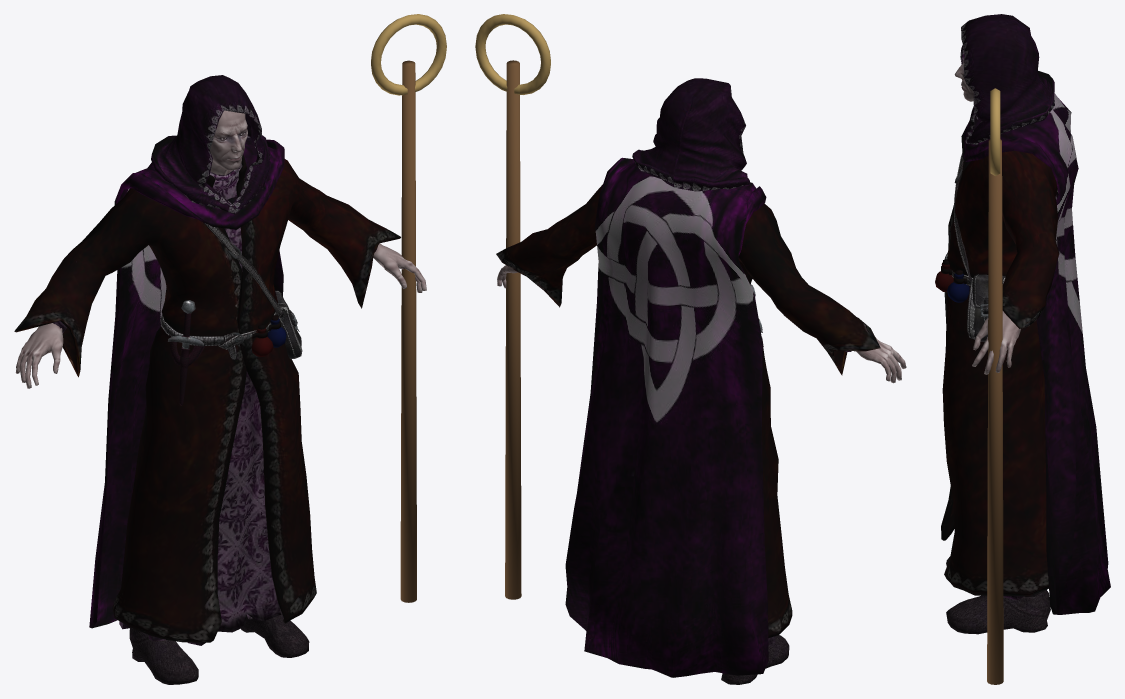
The model's file is actor-monk.glb.
3 renders of one model, left to right at view 1: azimuth 30°, elevation 25°; view 2: azimuth 150°, elevation 25°; view 3: azimuth 270°, elevation 25°, orthographic.
Visible parts, largest first — view 1: mage · posed; view 2: mage · posed; view 3: mage · posed.
Boxes of the visible parts, bbox=[...] form: mage · posed: bbox=[14, 14, 446, 684]; mage · posed: bbox=[475, 14, 906, 684]; mage · posed: bbox=[935, 14, 1110, 684].
Bounding box in the file's own units: 1.54 × 2.07 × 0.5488.
Materials: 3 (1 with a texture image).
